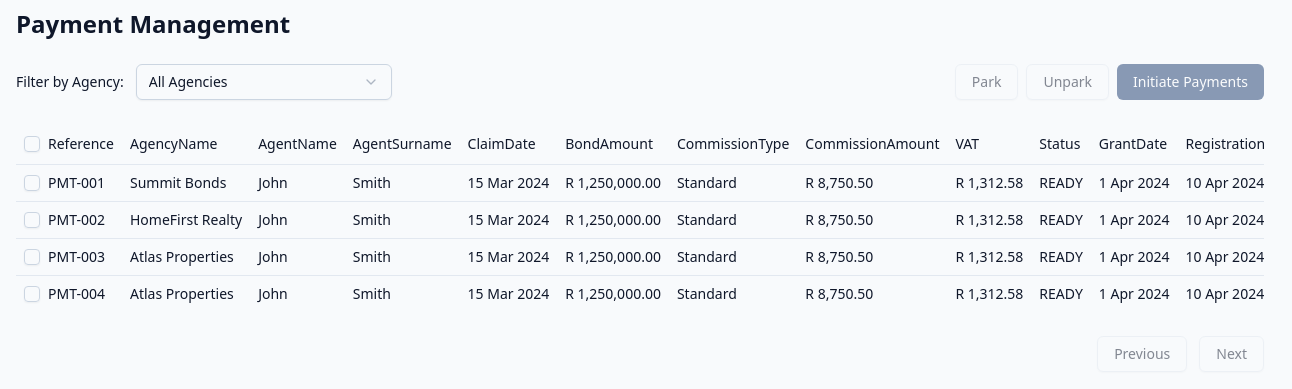
Test case: AgencyName dropdown (AC-14, AC-15) › populates the dropdown with distinct agency names sorted alphabetically, "All Agencies" first
What coordinates should you click on to do the following:
click the dropdown
I would click on:
 (264, 82)
Its box is [136,64,392,100].
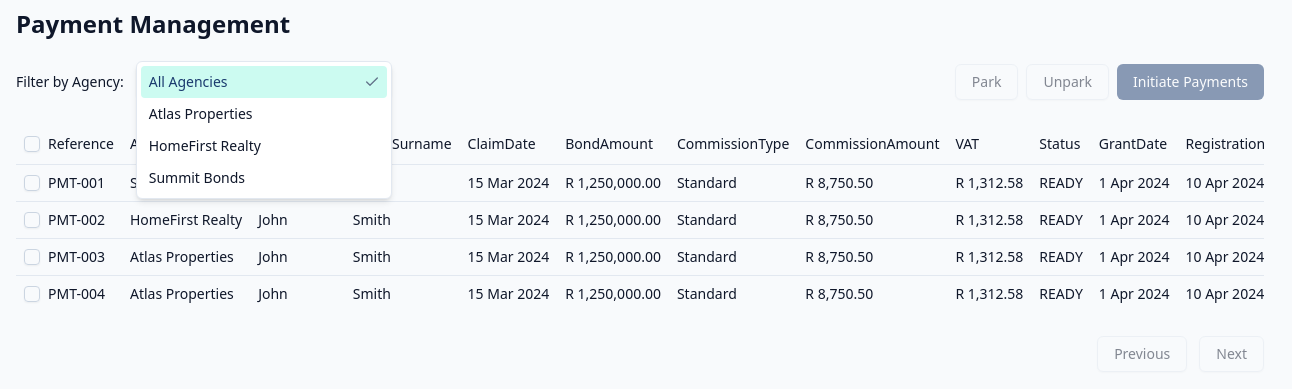
Expected: the text "All Agencies" next to "Filter by Agency:" is shown, [149,72,228,91]
Now the number of options is 4, box [141,66,387,98]; [149,104,252,123]; [149,136,261,155]; [149,168,245,187]
